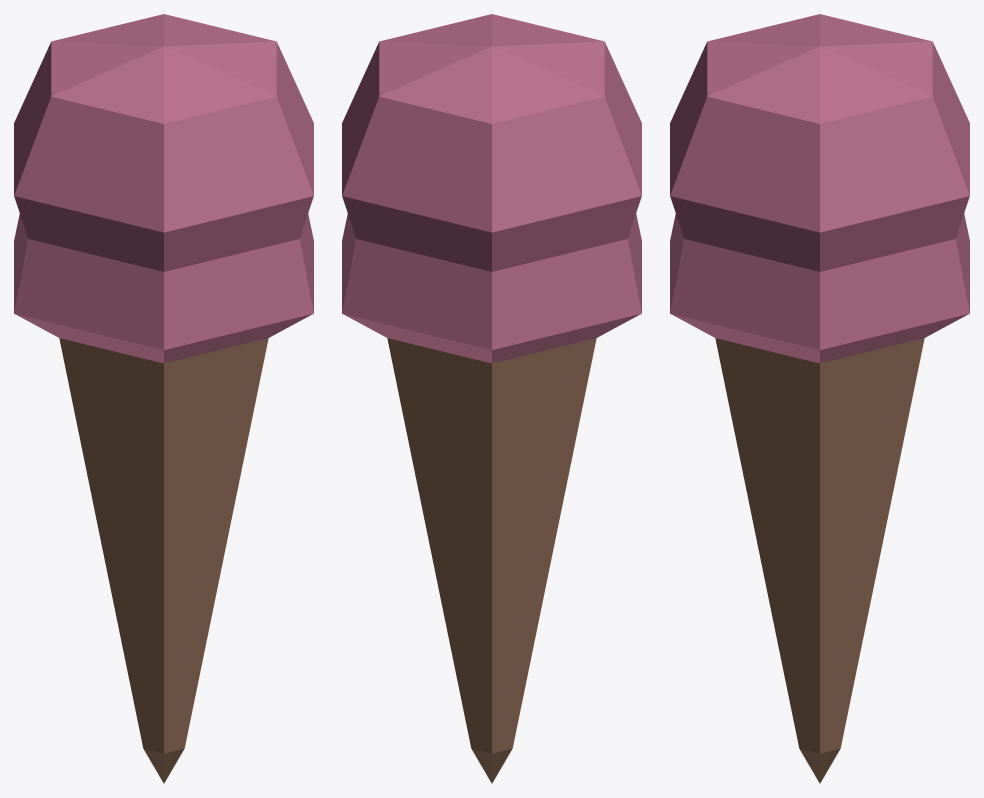
The model's file is SM_Prop_Sign_IceCream_01.fbx.
3 views of the same model, side by side, from view 1: azimuth 30°, elevation 25°; view 2: azimuth 150°, elevation 25°; view 3: azimuth 270°, elevation 25° (orthographic).
Parts seen in each view (by area): view 1: SM_Prop_Sign_IceCream_01; view 2: SM_Prop_Sign_IceCream_01; view 3: SM_Prop_Sign_IceCream_01.
Part boxes in pixels (x1,y1,x2,y2): SM_Prop_Sign_IceCream_01: (14, 14, 313, 783); SM_Prop_Sign_IceCream_01: (342, 14, 641, 783); SM_Prop_Sign_IceCream_01: (670, 14, 969, 783).
Bounding box in the file's own units: 42.92 × 101 × 37.17.
